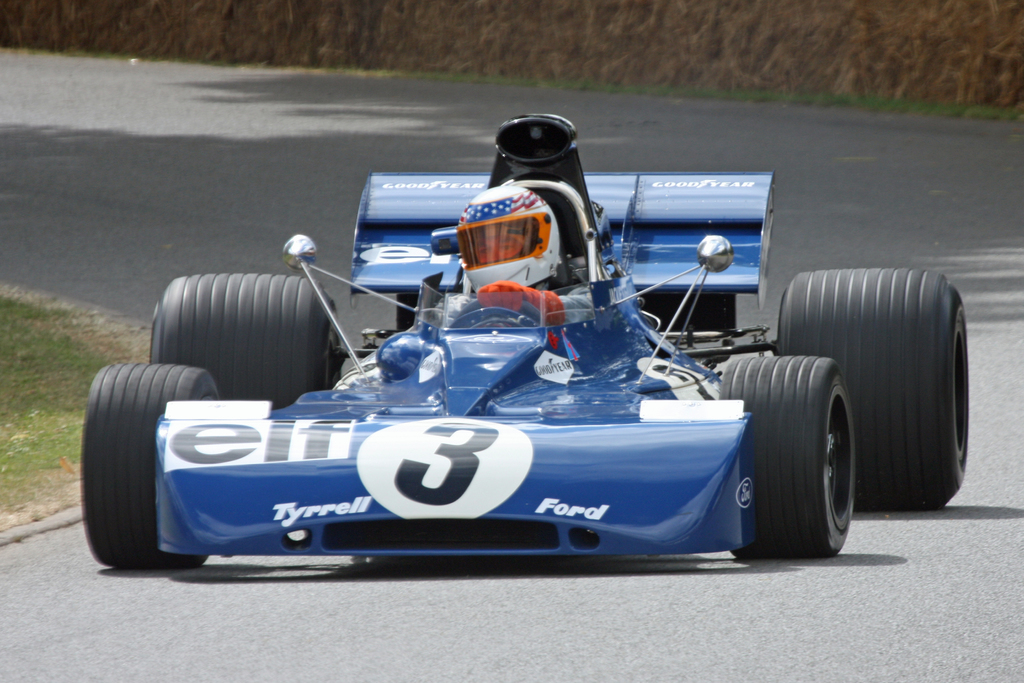Car: (65, 156, 942, 584)
